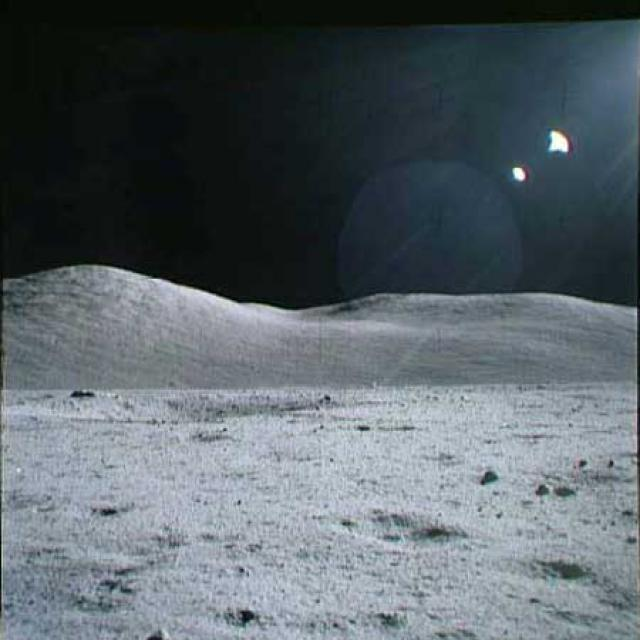crater: (21, 380, 338, 433), (330, 495, 459, 553)
